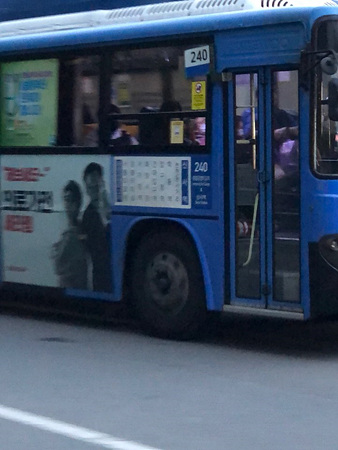entrance: (224, 64, 315, 319)
